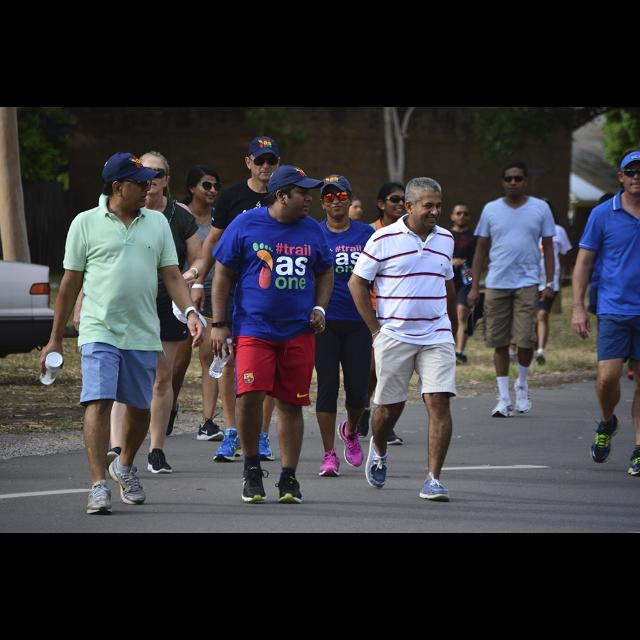head: (103, 157, 151, 210), (266, 167, 314, 219), (404, 178, 444, 230), (245, 140, 282, 183), (319, 175, 355, 219), (137, 151, 171, 197), (187, 167, 220, 206), (377, 182, 409, 220), (501, 162, 529, 198), (450, 203, 472, 227), (532, 200, 550, 222)
person: (35, 150, 208, 518), (208, 162, 336, 506), (190, 133, 312, 463), (91, 149, 209, 479), (346, 174, 462, 506), (465, 160, 561, 422), (309, 173, 383, 482), (157, 163, 235, 445), (351, 180, 424, 452), (516, 196, 576, 368), (442, 200, 486, 368)
